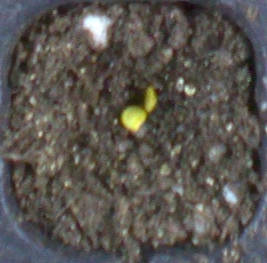chilli seed: (121, 105, 147, 132), (145, 86, 157, 113)
